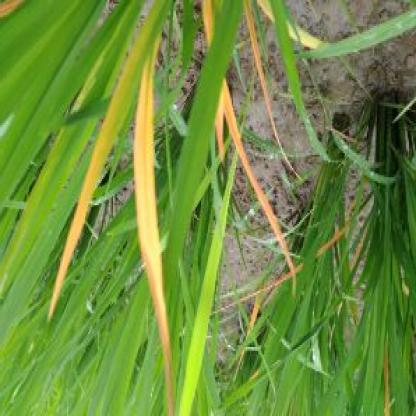Tungro: (134, 98, 177, 413)
